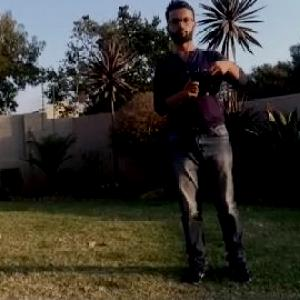follow: (150, 0, 260, 291)
